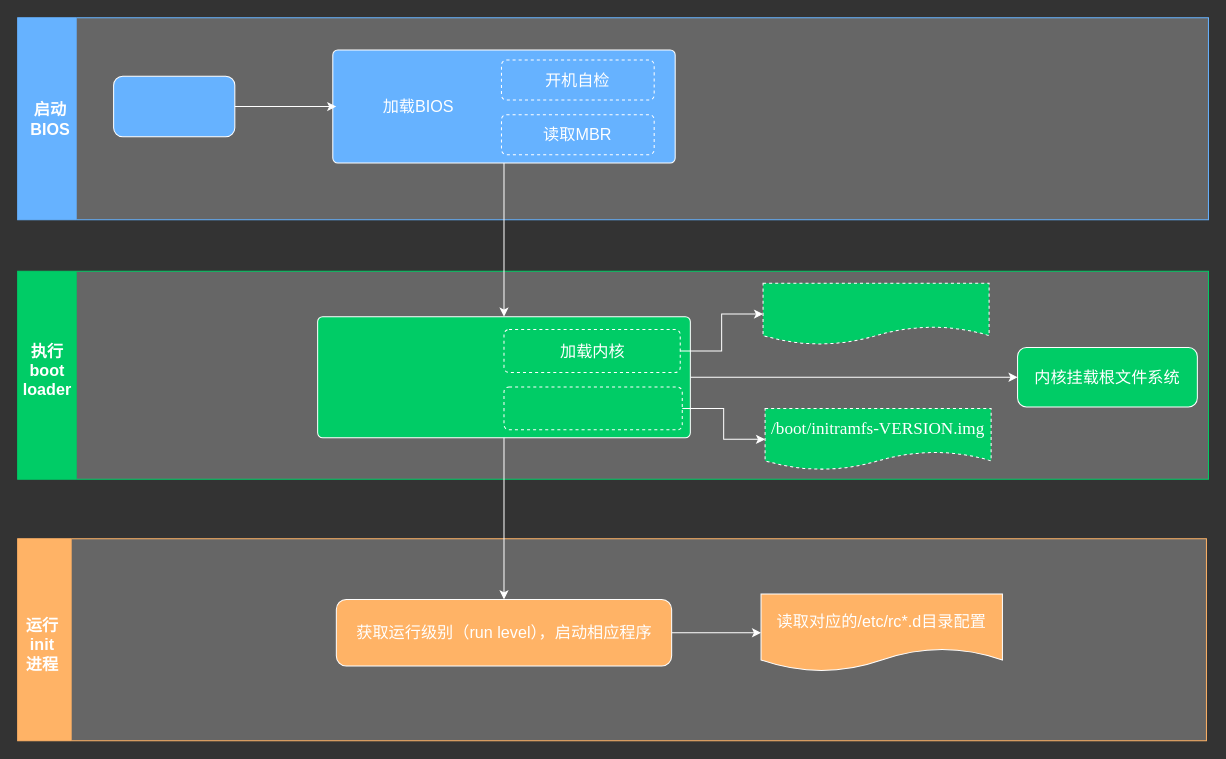
Some shapes in this 1226 by 759 pixel diagram are drawn without their labels. The shapes that lost their labels are listed below. From the top down, each one's centre as x and y in pixels, then its label:
(x=174, y=106): 系统加电
(x=875, y=313): /boot/vmlinuz-VERSION
(x=410, y=377): bootloader初始化
(x=592, y=408): 启动虚拟文件系统
